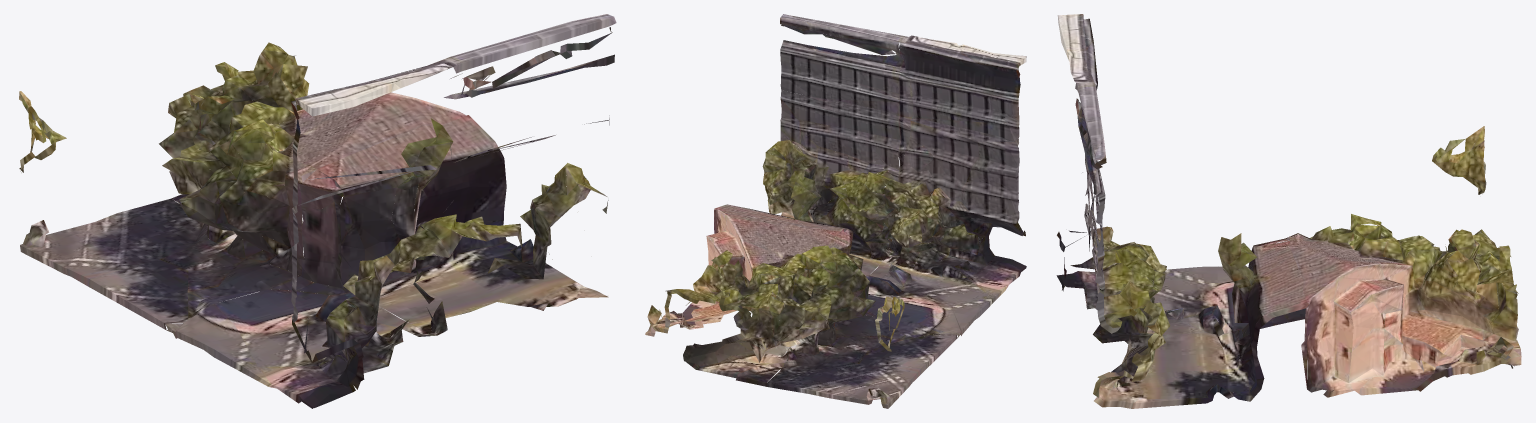
3 views of the same model, side by side, from view 1: azimuth 30°, elevation 25°; view 2: azimuth 150°, elevation 25°; view 3: azimuth 270°, elevation 25° (orthographic). The views are drawn at different scales.
Parts seen in each view (by area): view 1: Mesh_0; view 2: Mesh_0; view 3: Mesh_0.
Part boxes in pixels (bbox=[...]): Mesh_0: bbox=[19, 14, 616, 408]; Mesh_0: bbox=[645, 14, 1026, 408]; Mesh_0: bbox=[1056, 14, 1521, 408].
Bounding box in the file's own units: 33.92 × 26.64 × 41.44.
Materials: 2 (2 with a texture image).
